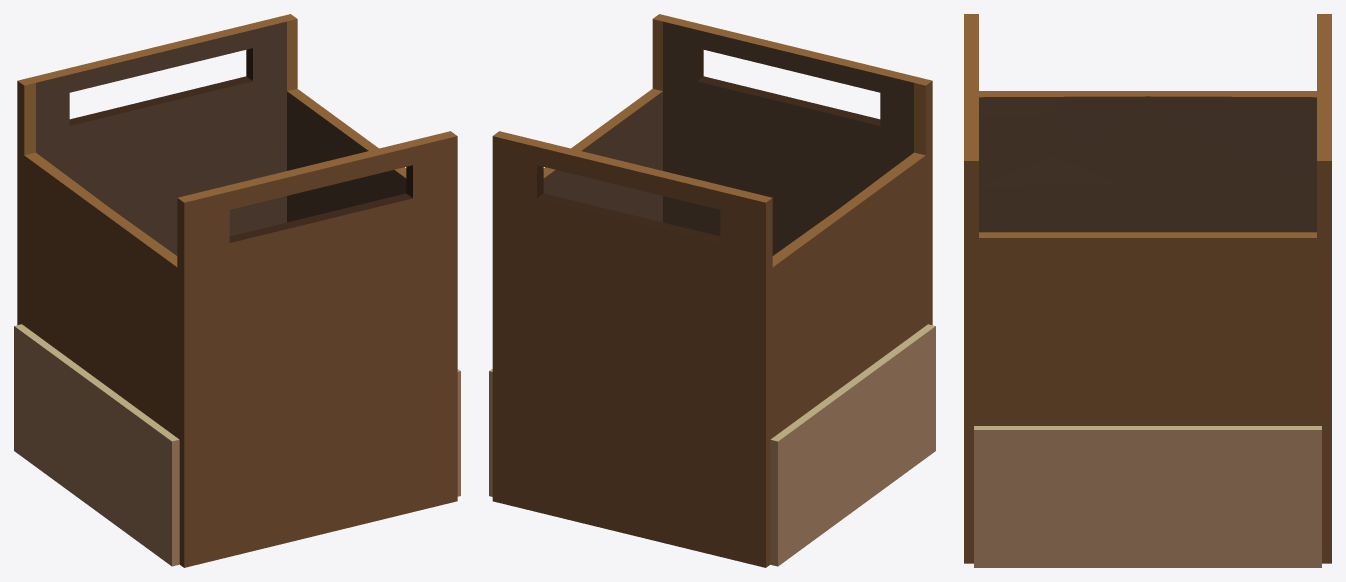
File: Package2.fbx
The picture shows the model from 3 angles, left to right: view 1: azimuth 30°, elevation 25°; view 2: azimuth 150°, elevation 25°; view 3: azimuth 270°, elevation 25°; orthographic projection. The views are drawn at different scales.
Visible parts, largest first — view 1: takeout_boxcpi, 01_box; view 2: takeout_boxcpi, 01_box; view 3: takeout_boxcpi, 01_box.
Part boxes in pixels (box(x1,y1,x2,y2)): takeout_boxcpi: box(17, 14, 457, 567); 01_box: box(14, 324, 460, 566); takeout_boxcpi: box(492, 14, 932, 567); 01_box: box(489, 324, 935, 566); takeout_boxcpi: box(964, 14, 1331, 563); 01_box: box(974, 426, 1321, 567).
Bounding box in the file's own units: 101 × 122 × 101.
1 material, 1 textured.
